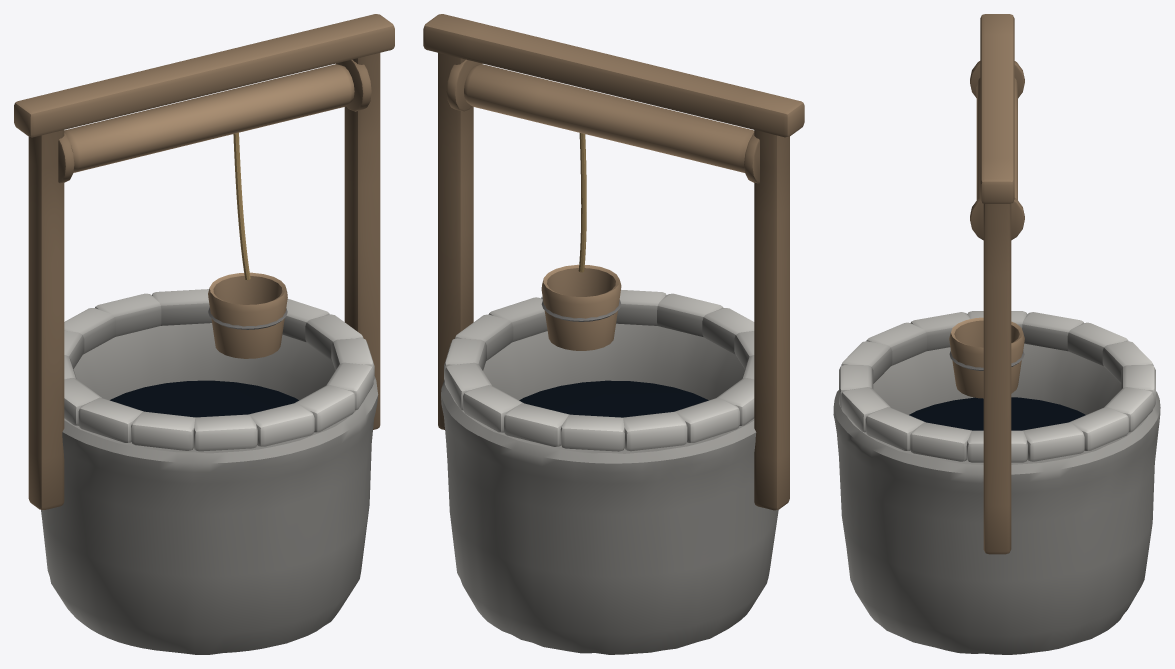
File: obj_kit_well.glb
3 renders of one model, left to right at view 1: azimuth 30°, elevation 25°; view 2: azimuth 150°, elevation 25°; view 3: azimuth 270°, elevation 25°, orthographic. The views are drawn at different scales.
Visible parts, largest first — view 1: wall, Cube.018, Cube.017, Cylinder.001, Cube.016, bucket, Cylinder, Cube.011, Cube.010, Cube.012, Cube.009, Cube.004 (+12 smaller); view 2: wall, Cube.018, Cube.017, Cylinder.001, Cube.016, bucket, Cylinder, Cube.005, Cube.006, Cube.004, Cube.007, Cube.012 (+12 smaller); view 3: wall, Cube.016, Cube.018, Cylinder, bucket, Cube.015, Cube.001, Cube.014, Cube.002, Cube.007, Cube.006, Cube.010 (+11 smaller).
Part boxes in pixels (x1,y1,x2,y2): wall: (41,323,378,654); Cube.018: (14,14,394,137); Cube.017: (28,130,64,510); Cylinder.001: (64,64,354,172); Cube.016: (344,53,380,429); bucket: (208,272,287,358); Cylinder: (110,380,298,417); Cube.011: (193,414,257,451); Cube.010: (131,411,195,450); Cube.012: (248,403,314,446); Cube.009: (78,397,143,442); Cube.004: (95,293,161,336); wall: (441,323,778,654); Cube.018: (423,14,804,137); Cube.017: (754,130,789,510); Cylinder.001: (464,64,754,172); Cube.016: (438,53,473,429); bucket: (541,264,621,350); Cylinder: (519,380,708,417); Cube.005: (560,414,624,451); Cube.006: (623,411,687,451); Cube.004: (504,403,569,446); Cube.007: (675,398,739,443); Cube.012: (657,293,723,336); wall: (833,343,1160,654); Cube.016: (983,203,1011,554); Cube.018: (980,14,1014,203); Cylinder: (909,397,1085,430); bucket: (949,317,1024,398); Cube.015: (910,422,971,461); Cube.001: (1023,422,1084,461); Cube.014: (865,407,925,450); Cube.002: (1069,407,1128,450); Cube.007: (1022,312,1083,351); Cube.006: (1067,322,1128,365); Cube.010: (866,322,926,365).
Size of the model in its own units: 1.16 by 1.62 by 0.9492.
